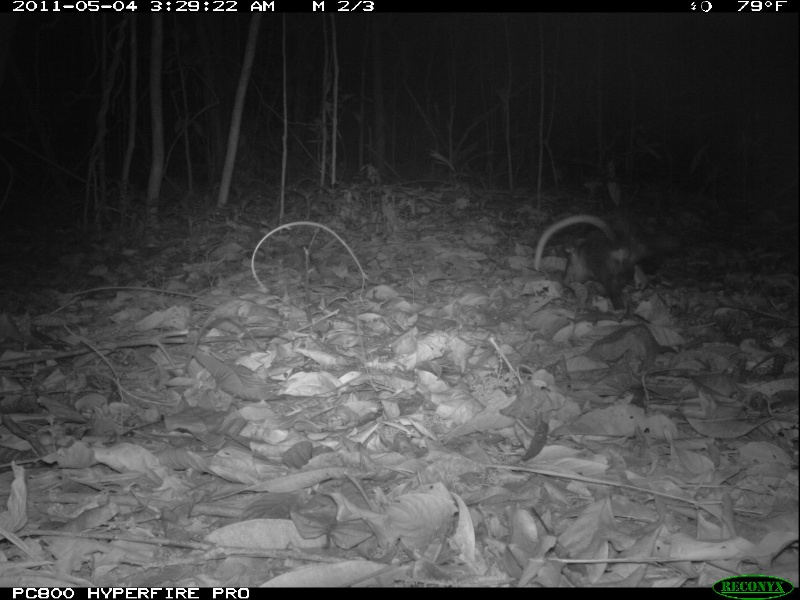opossum: (534, 215, 640, 310)
